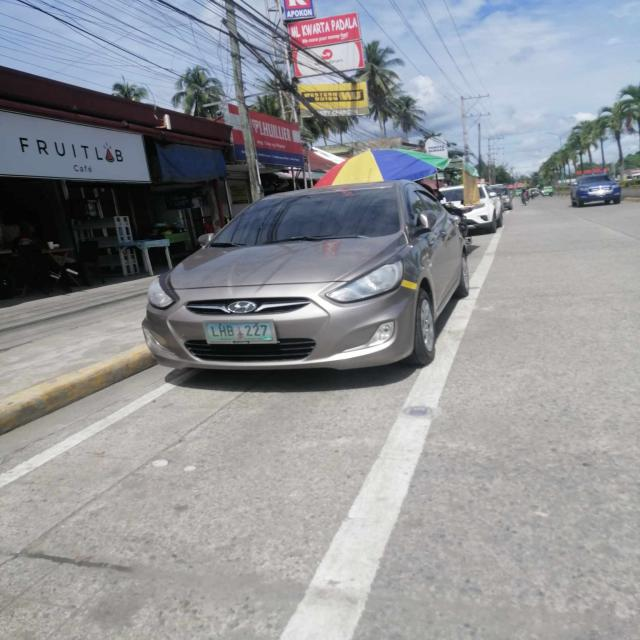license-plate: (202, 320, 278, 344)
